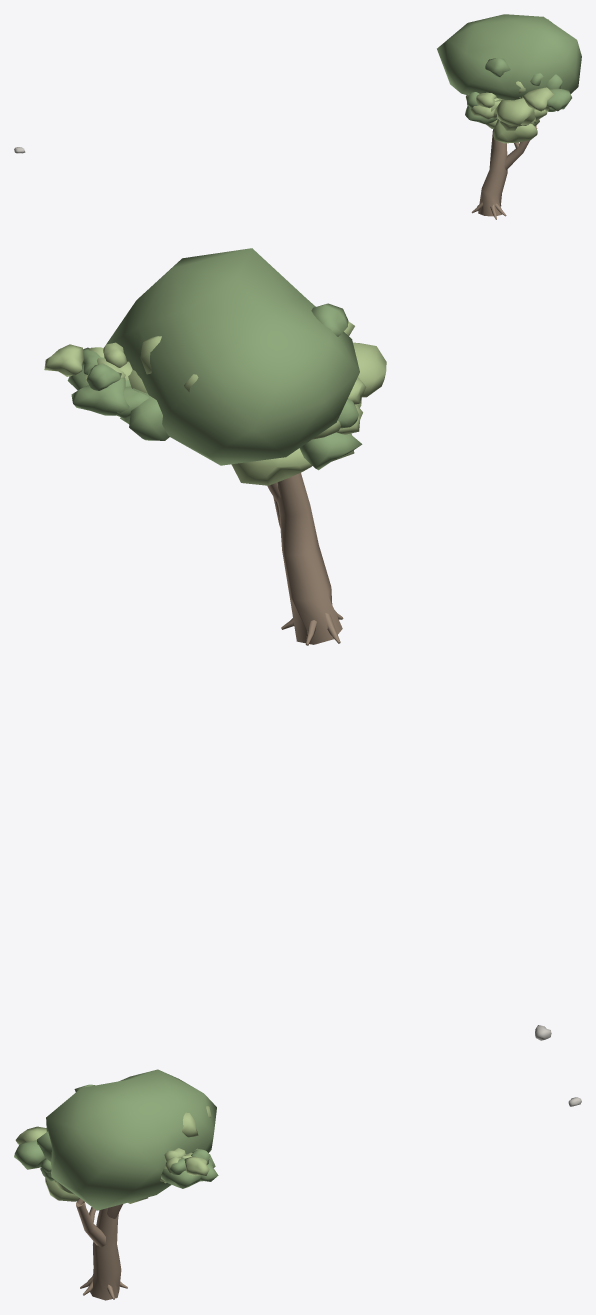
The picture shows the model from 3 angles, top to bottom: view 1: azimuth 30°, elevation 25°; view 2: azimuth 150°, elevation 25°; view 3: azimuth 270°, elevation 25°; orthographic projection. The views are drawn at different scales.
Visible parts, largest first — view 1: pm2_m2; view 2: pm2_m2; view 3: pm2_m2.
Part boxes in pixels (bbox=[...]): pm2_m2: bbox=[14, 14, 581, 219]; pm2_m2: bbox=[44, 248, 551, 1040]; pm2_m2: bbox=[14, 1069, 581, 1300].
Bounding box in the file's own units: 24.82 × 10.77 × 23.59.
